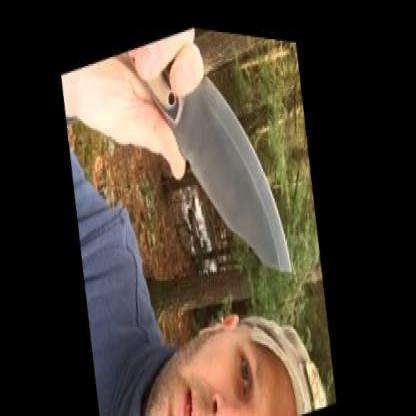knife: (115, 15, 305, 339)
